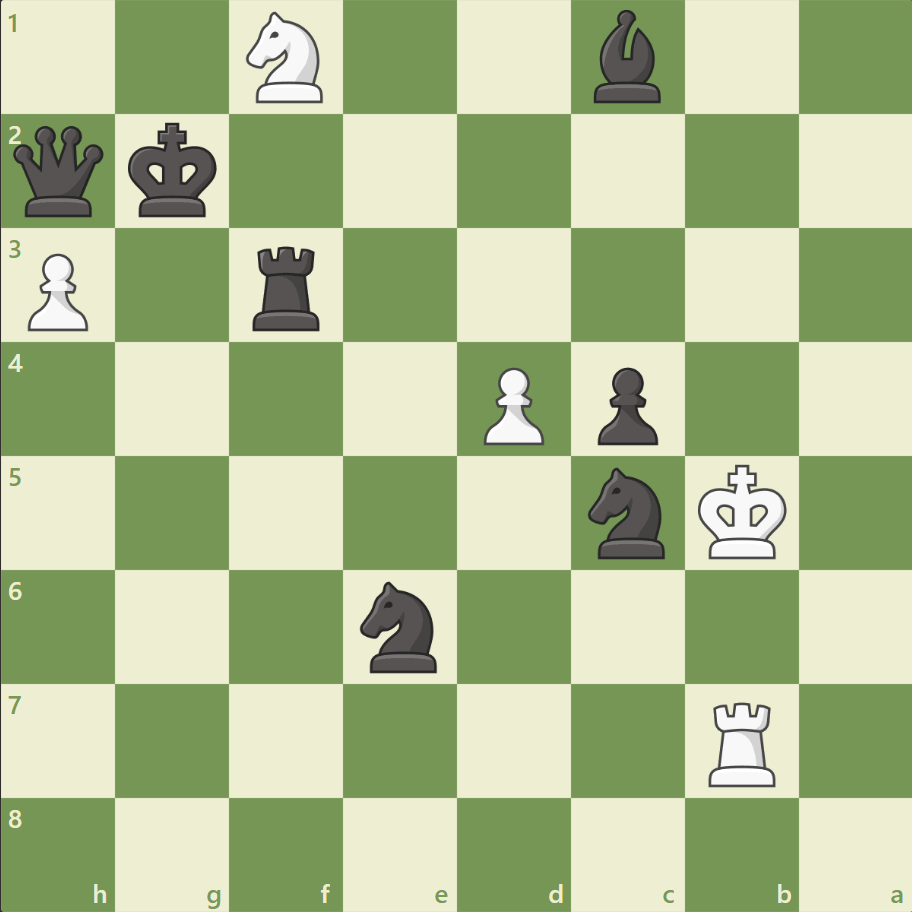K: (692, 458, 792, 566)
N: (238, 7, 335, 110)
P: (474, 359, 549, 450), (20, 246, 95, 337)
R: (700, 693, 783, 790)
b: (585, 6, 669, 109)
k: (124, 117, 224, 225)
n: (351, 575, 449, 677), (579, 461, 676, 564)
p: (588, 359, 662, 450)
q: (10, 122, 109, 222)
r: (246, 239, 329, 336)
